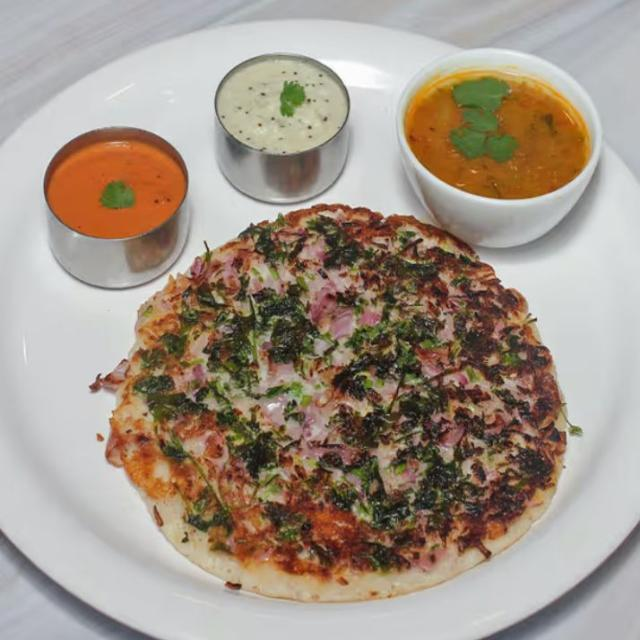DOSA: (122, 209, 547, 591)
RED CHUTNEY: (51, 142, 178, 239)
SAMBAR: (416, 71, 586, 194)
WHITE CHUTNEY: (225, 64, 339, 148)
